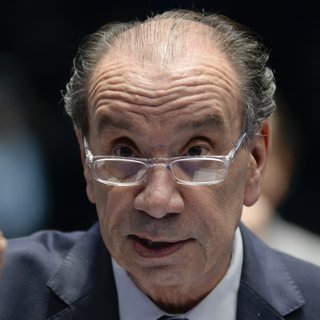eye: (100, 134, 147, 169), (172, 134, 217, 167)
